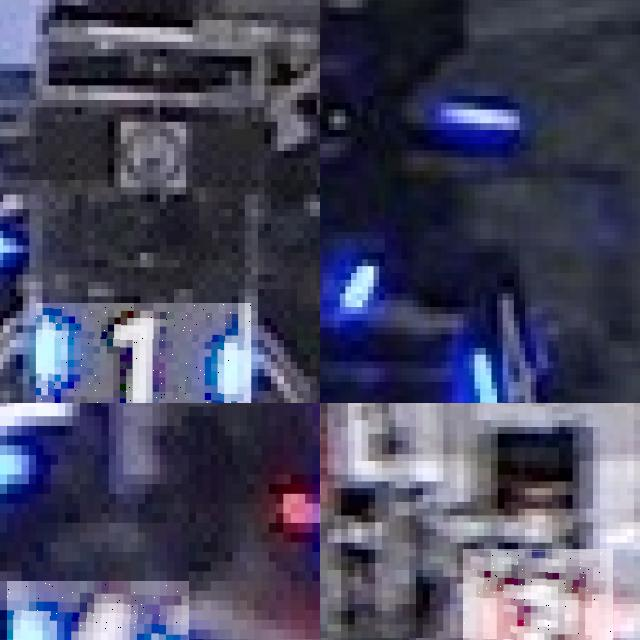B1: (35, 303, 251, 403)
B4: (7, 581, 189, 640), (463, 286, 553, 403), (320, 212, 379, 348)
R2: (463, 549, 613, 640)
